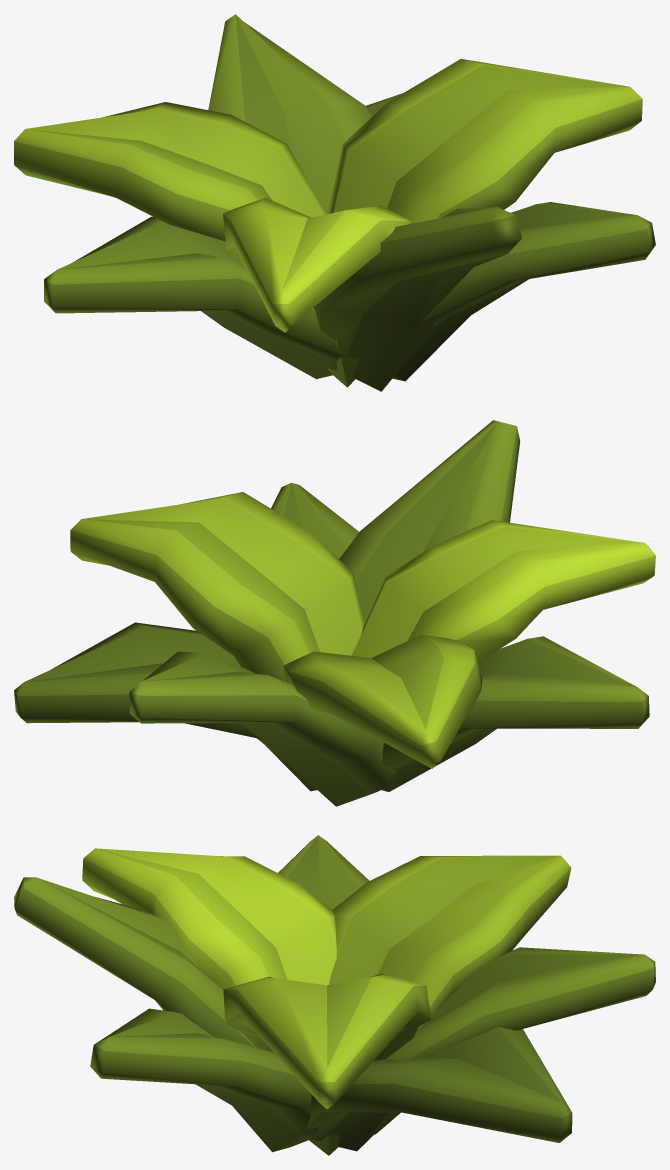
The model's file is dandelion_leaves_LOD_group.fbx.
The picture shows the model from 3 angles, top to bottom: view 1: azimuth 30°, elevation 25°; view 2: azimuth 150°, elevation 25°; view 3: azimuth 270°, elevation 25°; orthographic projection. The views are drawn at different scales.
Parts seen in each view (by area): view 1: dandelion_leaves_LOD0; view 2: dandelion_leaves_LOD0; view 3: dandelion_leaves_LOD0.
Part boxes in pixels (x1,y1,x2,y2): dandelion_leaves_LOD0: (14, 14, 655, 391); dandelion_leaves_LOD0: (14, 420, 655, 806); dandelion_leaves_LOD0: (14, 835, 655, 1155).
Size of what is drawn, in the model's own units: 107 by 46.76 by 104.
1 material, 1 textured.
